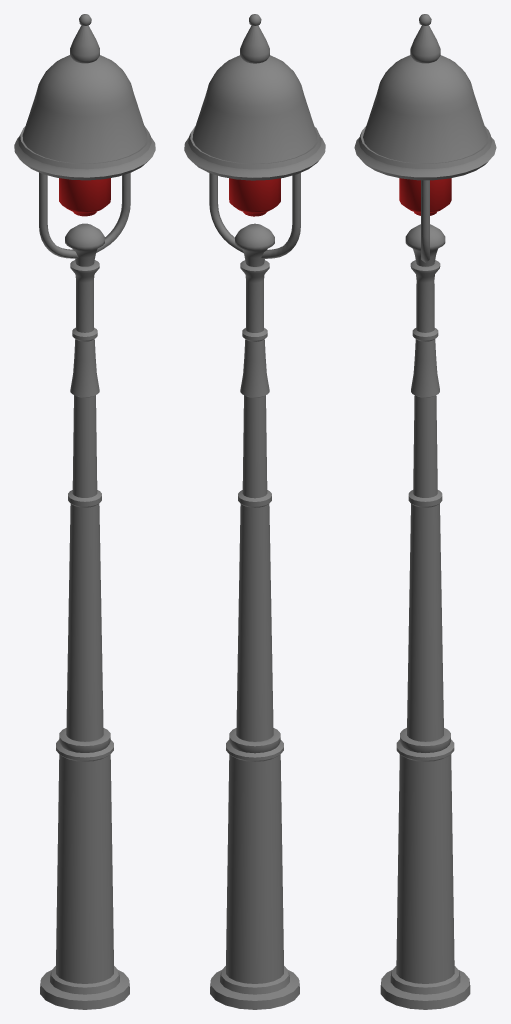
Rendered from SM_lamp_street_b_01.fbx.
The picture shows the model from 3 angles, left to right: view 1: azimuth 30°, elevation 25°; view 2: azimuth 150°, elevation 25°; view 3: azimuth 270°, elevation 25°; orthographic projection.
Visible parts, largest first — view 1: Line004; view 2: Line004; view 3: Line004.
Part boxes in pixels (x1,y1,x2,y2): Line004: (14,14,155,1009); Line004: (184,14,325,1009); Line004: (354,14,496,1009).
Bounding box in the file's own units: 23.57 × 180 × 23.75.
